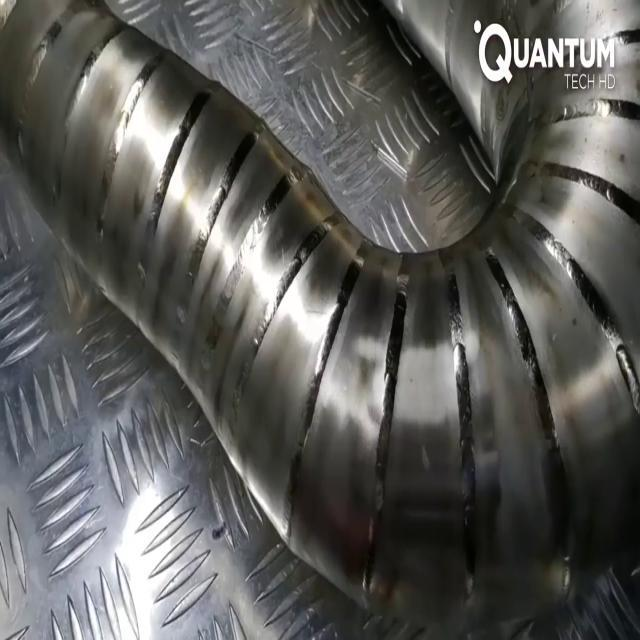Good Welding: (0, 4, 640, 630)
